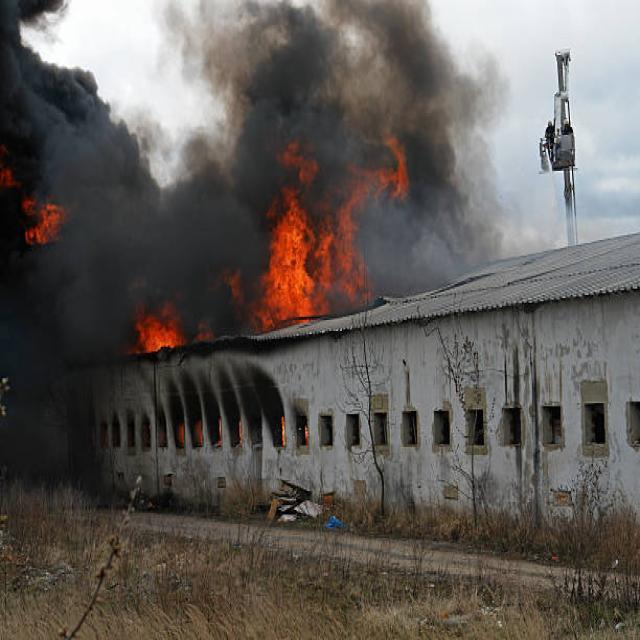Fire: (256, 142, 392, 304), (1, 150, 61, 252), (130, 318, 188, 350)
Smoke: (2, 0, 476, 288)
